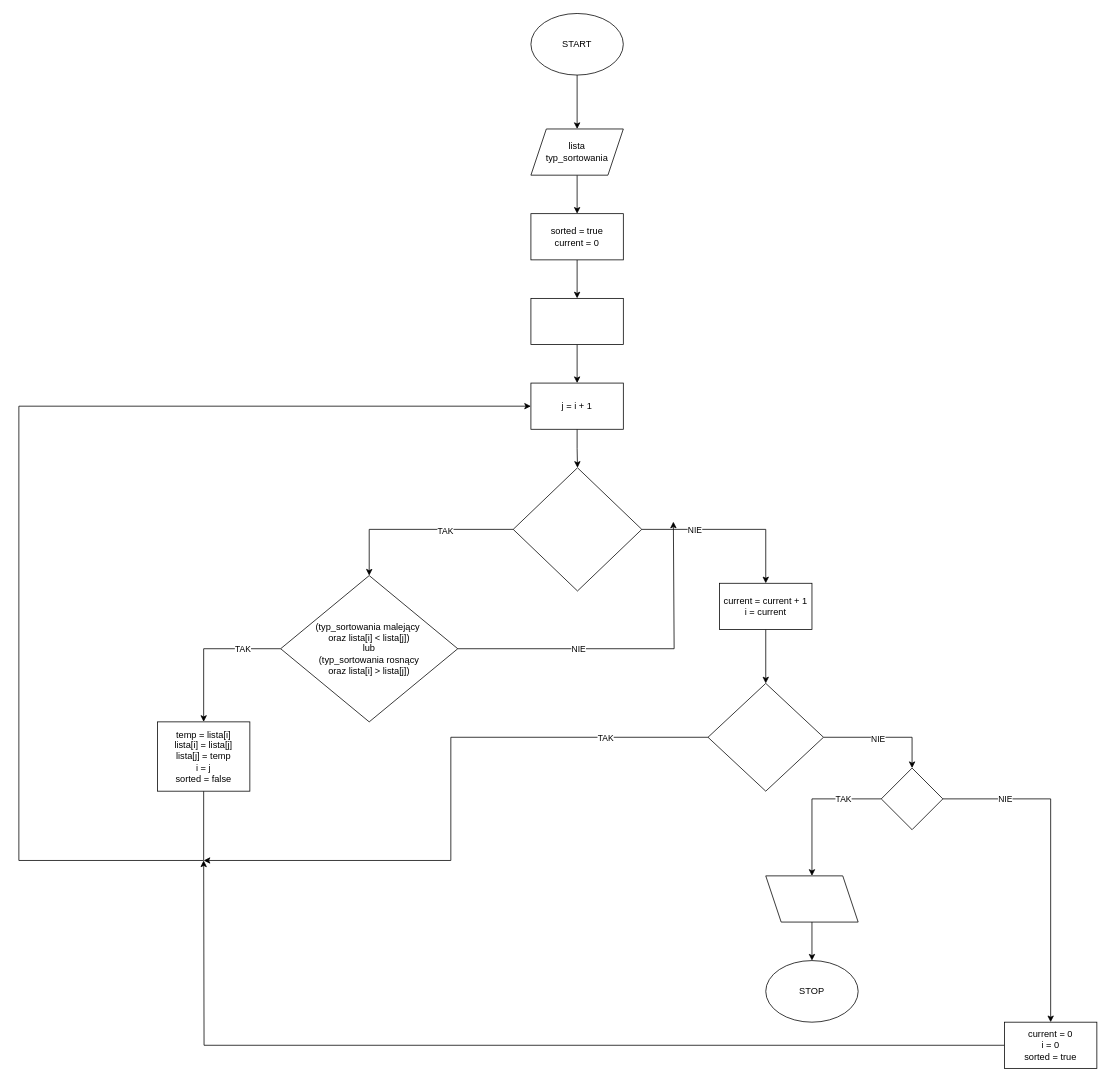
Some shapes in this 1110 by 1082 pixel diagram are drawn without their labels. Here are the shapes that lost their labels. From the top down, the centre of each, then its label:
At pixel 576 321: "i = 0".
At pixel 577 529: "j < dlugość(lista) - current".
At pixel 765 737: "i < dlugość(lista)".
At pixel 911 798: "sorted".
At pixel 811 898: "lista".
